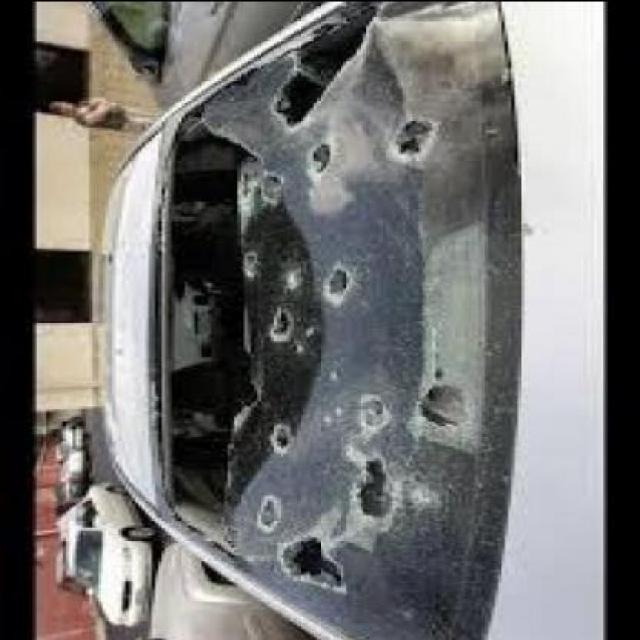damage: (157, 6, 509, 637)
